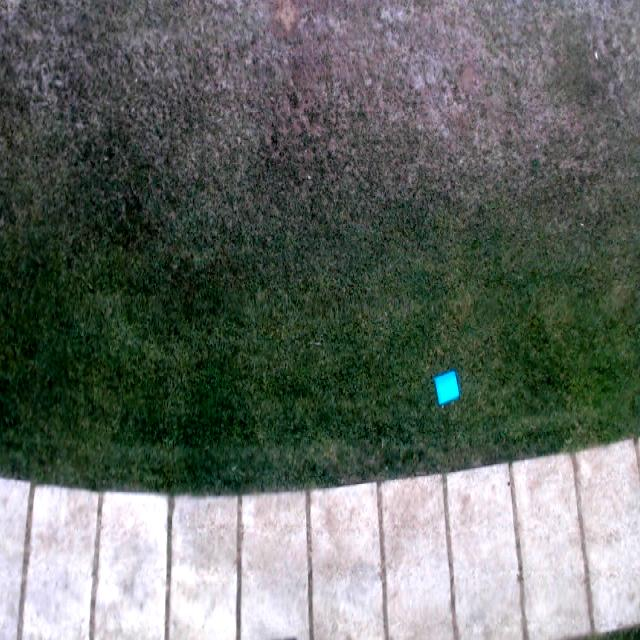blue_square: (432, 370, 461, 408)
